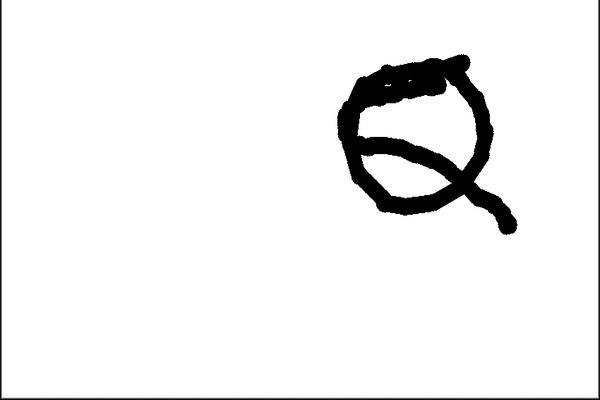Q: (328, 47, 522, 240)
